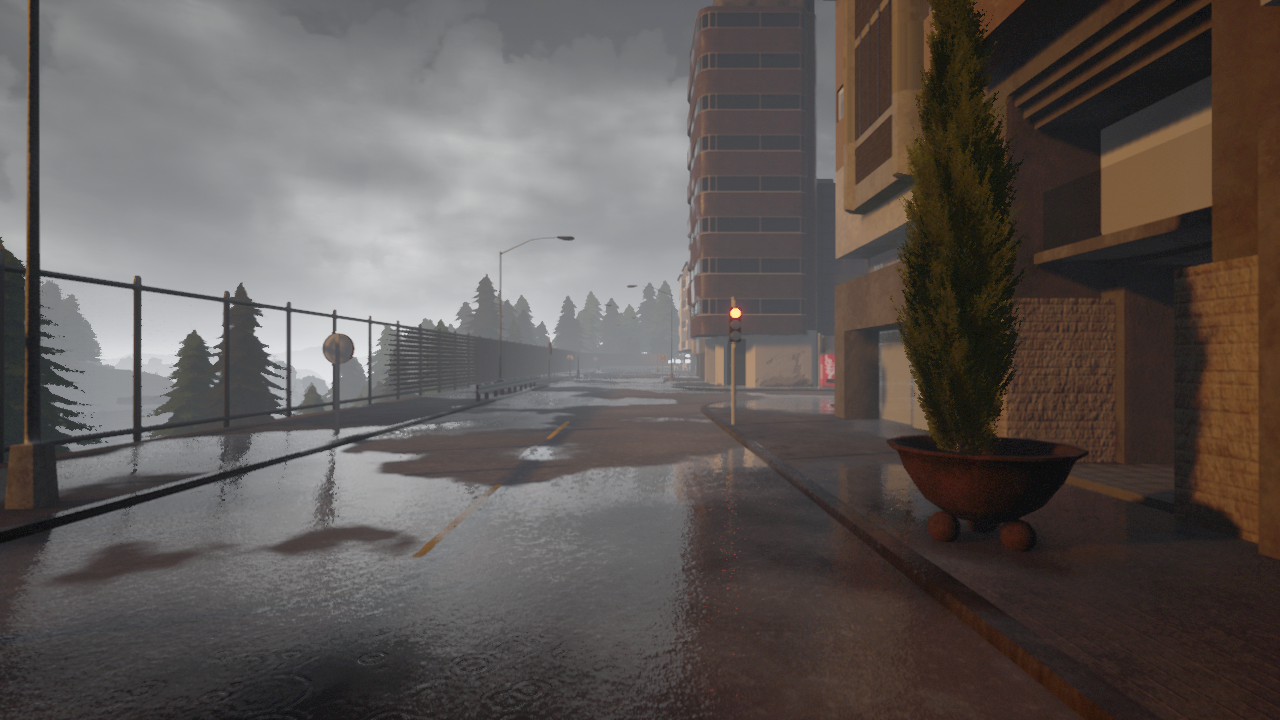red: (728, 306, 742, 343)
